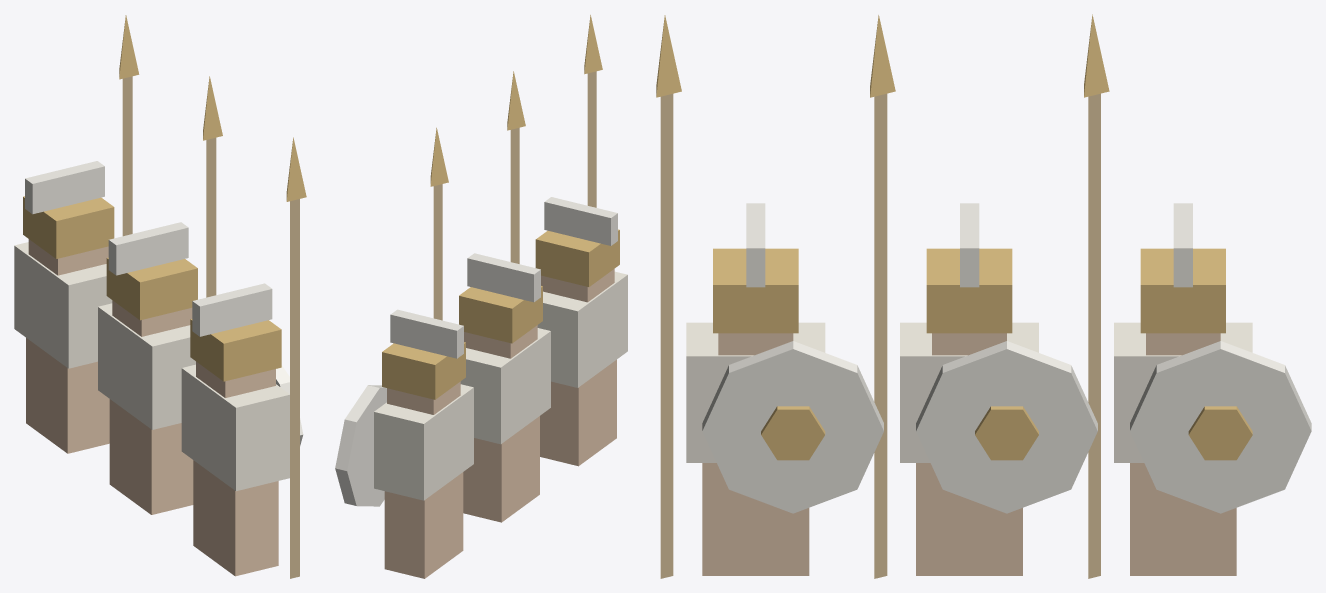
Rendered from formation_front.glb.
3 views of the same model, side by side, from view 1: azimuth 30°, elevation 25°; view 2: azimuth 150°, elevation 25°; view 3: azimuth 270°, elevation 25° (orthographic). The views are drawn at different scales.
Visible parts, largest first — view 1: ancient_formation_front; view 2: ancient_formation_front; view 3: ancient_formation_front.
Boxes of the visible parts, bbox=[...] form: ancient_formation_front: bbox=[14, 15, 306, 578]; ancient_formation_front: bbox=[335, 15, 627, 578]; ancient_formation_front: bbox=[656, 14, 1311, 578].
Size of the model in its own units: 0.2071 by 0.9457 by 0.9995.
